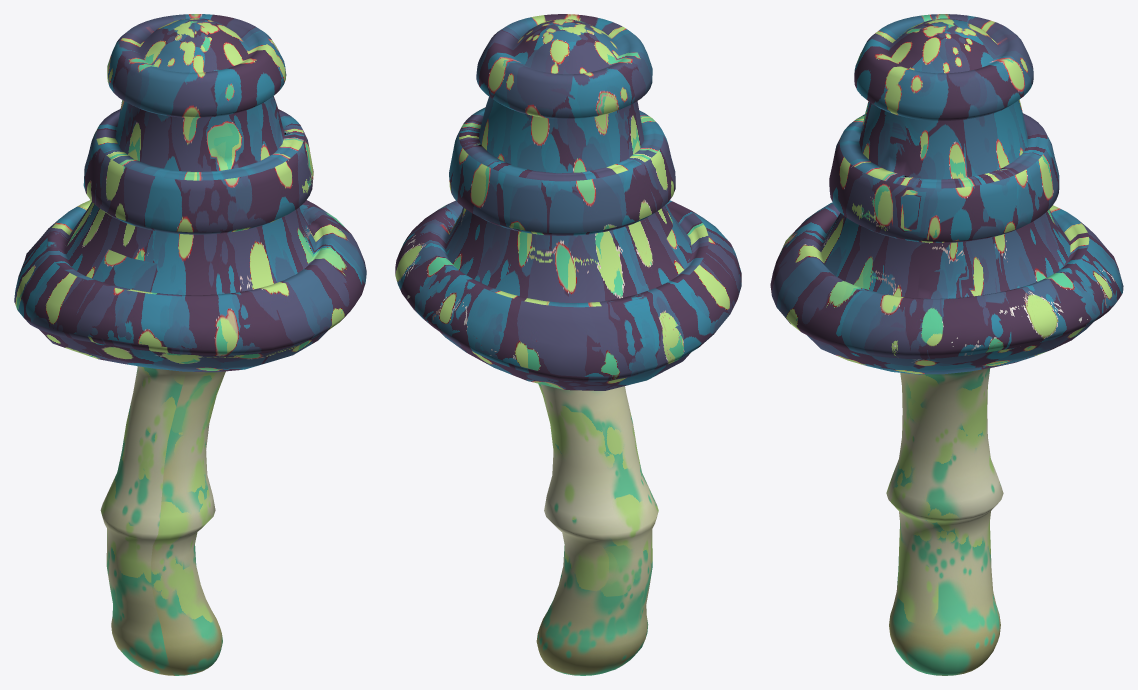
Rendered from FBX_Mushroom1.fbx.
The picture shows the model from 3 angles, left to right: view 1: azimuth 30°, elevation 25°; view 2: azimuth 150°, elevation 25°; view 3: azimuth 270°, elevation 25°; orthographic projection. The views are drawn at different scales.
Parts seen in each view (by area): view 1: mushroom 2; view 2: mushroom 2; view 3: mushroom 2.
Boxes of the visible parts, x1,y1,x2,y2 form: mushroom 2: (14,14,366,675); mushroom 2: (395,14,741,675); mushroom 2: (770,14,1123,675).
Size of the model in its own units: 133 by 264 by 130.
